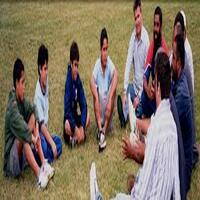person: (92, 24, 129, 84), (30, 35, 56, 96), (4, 53, 33, 105), (60, 28, 84, 86), (123, 1, 152, 37), (148, 4, 171, 48)
